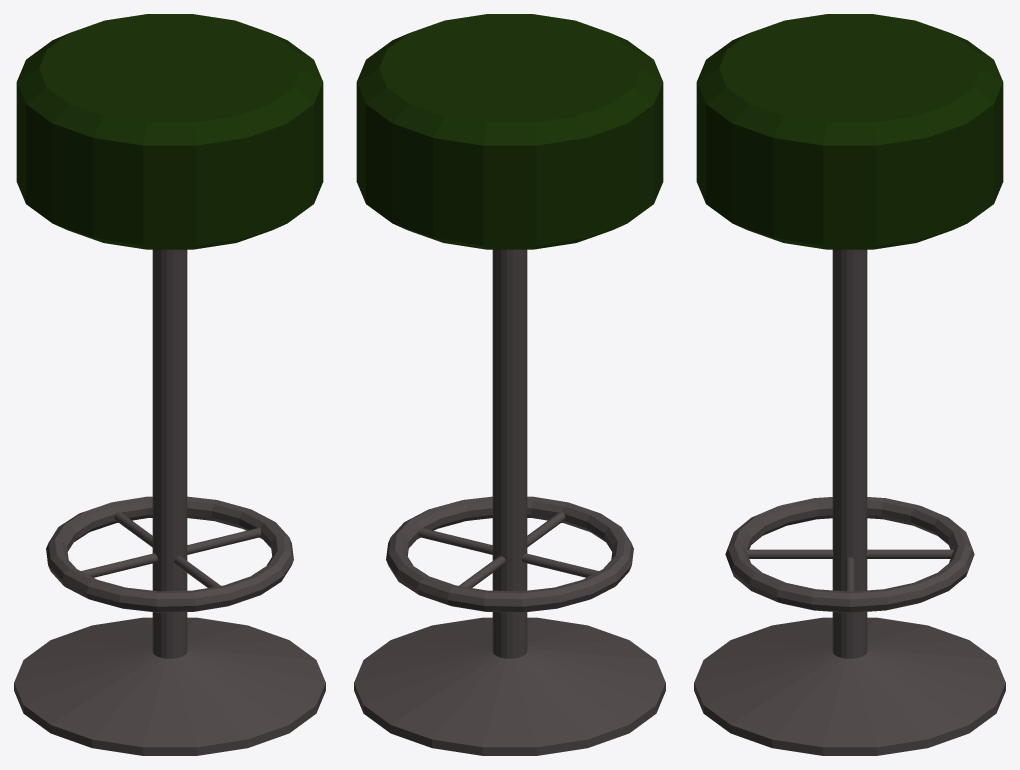
The model's file is Barstool.fbx.
3 renders of one model, left to right at view 1: azimuth 30°, elevation 25°; view 2: azimuth 150°, elevation 25°; view 3: azimuth 270°, elevation 25°, orthographic.
Parts seen in each view (by area): view 1: Cylinder; view 2: Cylinder; view 3: Cylinder.
Part boxes in pixels (x1,y1,x2,y2): Cylinder: (14, 14, 325, 755); Cylinder: (354, 14, 665, 755); Cylinder: (694, 14, 1005, 755).
Bounding box in the file's own units: 197 × 441 × 200.
